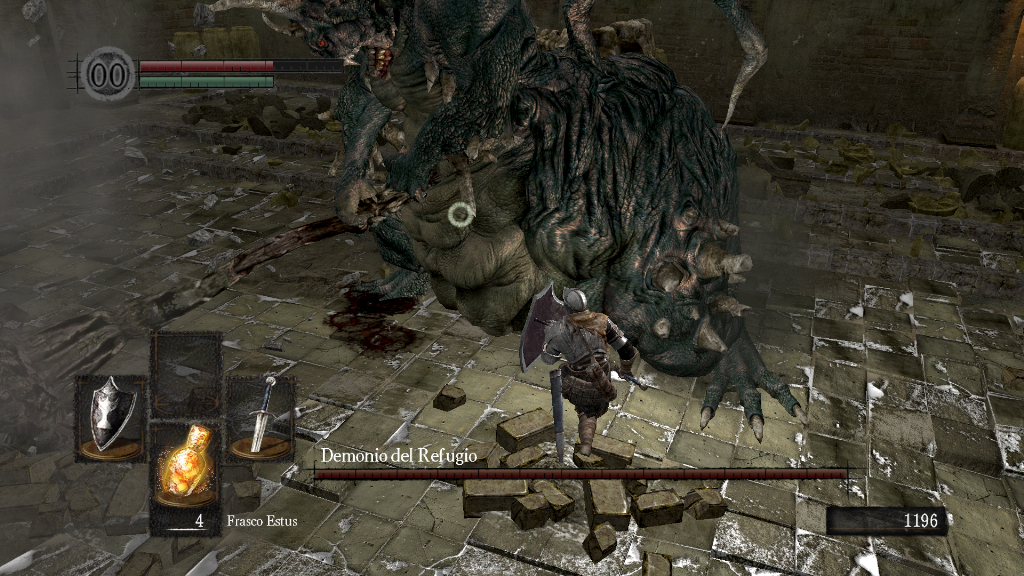asylumDemon: (204, 1, 810, 440)
bossHP: (314, 469, 847, 479)
health: (138, 58, 343, 71)
humanity: (80, 45, 136, 102)
player: (520, 279, 650, 462)
souls: (825, 506, 945, 536)
stamina: (138, 74, 274, 88)
